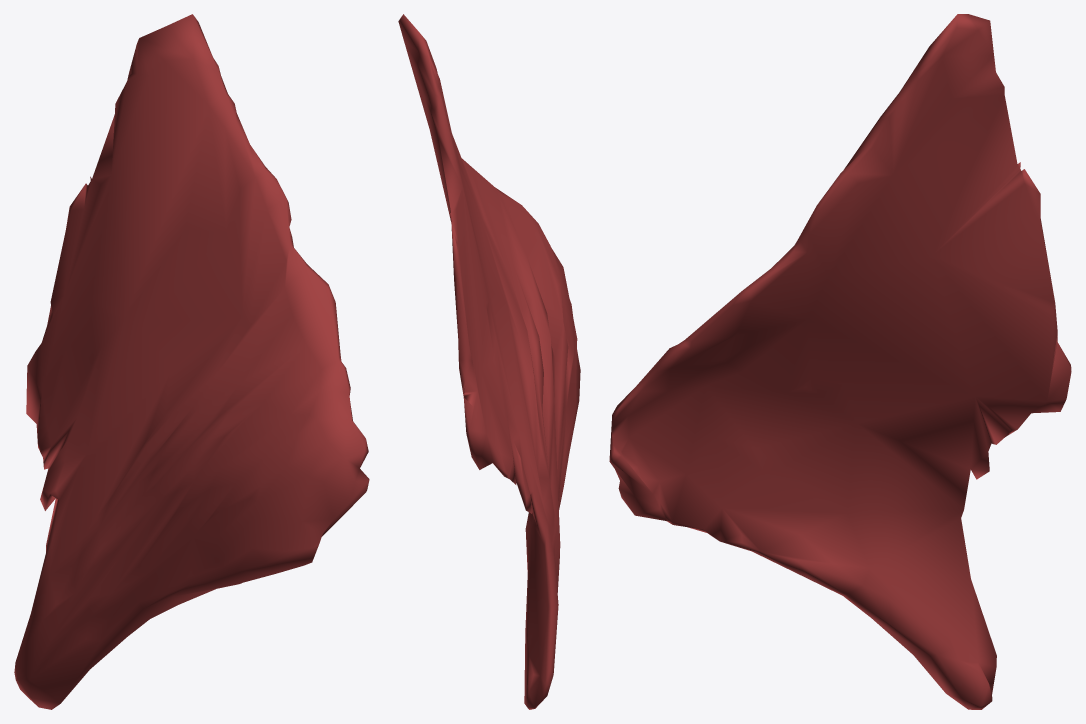
File: nasalis-muscle-r.glb
3 renders of one model, left to right at view 1: azimuth 30°, elevation 25°; view 2: azimuth 150°, elevation 25°; view 3: azimuth 270°, elevation 25°, orthographic. The views are drawn at different scales.
Visible parts, largest first — view 1: Nasalis muscle.r; view 2: Nasalis muscle.r; view 3: Nasalis muscle.r.
Boxes of the visible parts, box(x1,y1,x2,y2) form: Nasalis muscle.r: box(14, 14, 369, 709); Nasalis muscle.r: box(398, 14, 580, 709); Nasalis muscle.r: box(609, 14, 1071, 709).
Size of the model in its own units: 0.0133 by 0.0403 by 0.0218.
